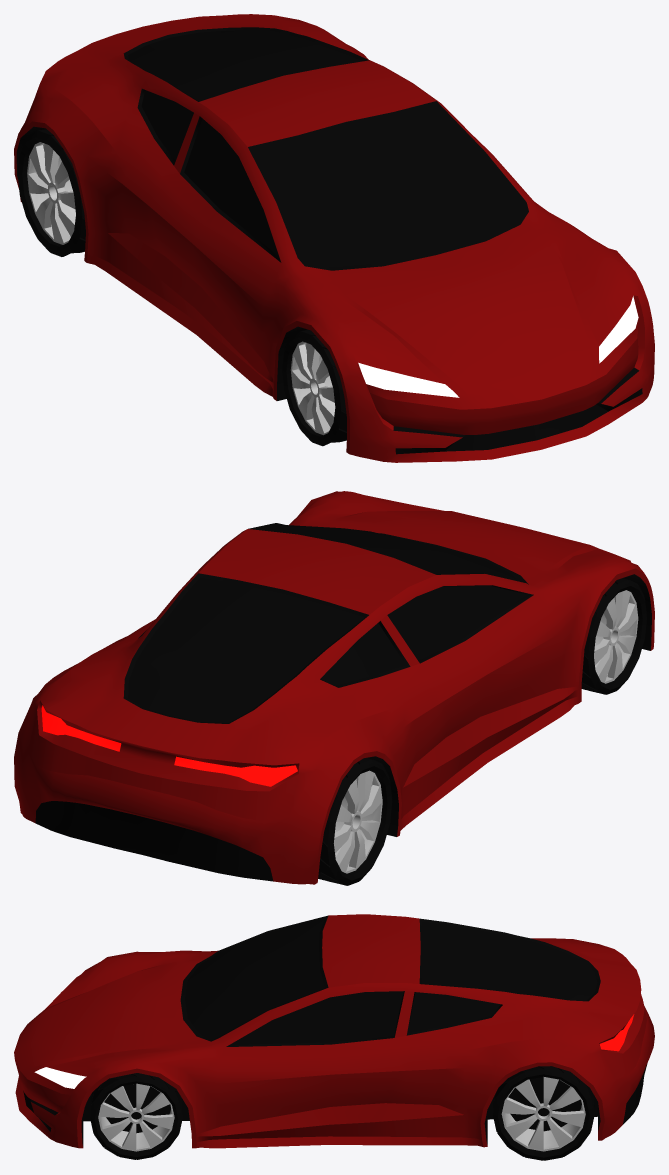
The picture shows the model from 3 angles, top to bottom: view 1: azimuth 30°, elevation 25°; view 2: azimuth 150°, elevation 25°; view 3: azimuth 270°, elevation 25°; orthographic projection. The views are drawn at different scales.
Parts seen in each view (by area): view 1: Body, Back Wheels.001, Front Wheels.001; view 2: Body, Back Wheels.001, Front Wheels.001; view 3: Body, Back Wheels.001, Front Wheels.001.
Part boxes in pixels (x1,y1,x2,y2): Body: (14,14,654,462); Back Wheels.001: (17,128,85,256); Front Wheels.001: (282,329,346,446); Body: (14,491,654,884); Back Wheels.001: (318,758,392,885); Front Wheels.001: (581,578,646,694); Body: (14,914,654,1148); Back Wheels.001: (493,1066,594,1160); Front Wheels.001: (90,1073,182,1159).
Size of the model in its own units: 2.02 by 1.22 by 4.52.
